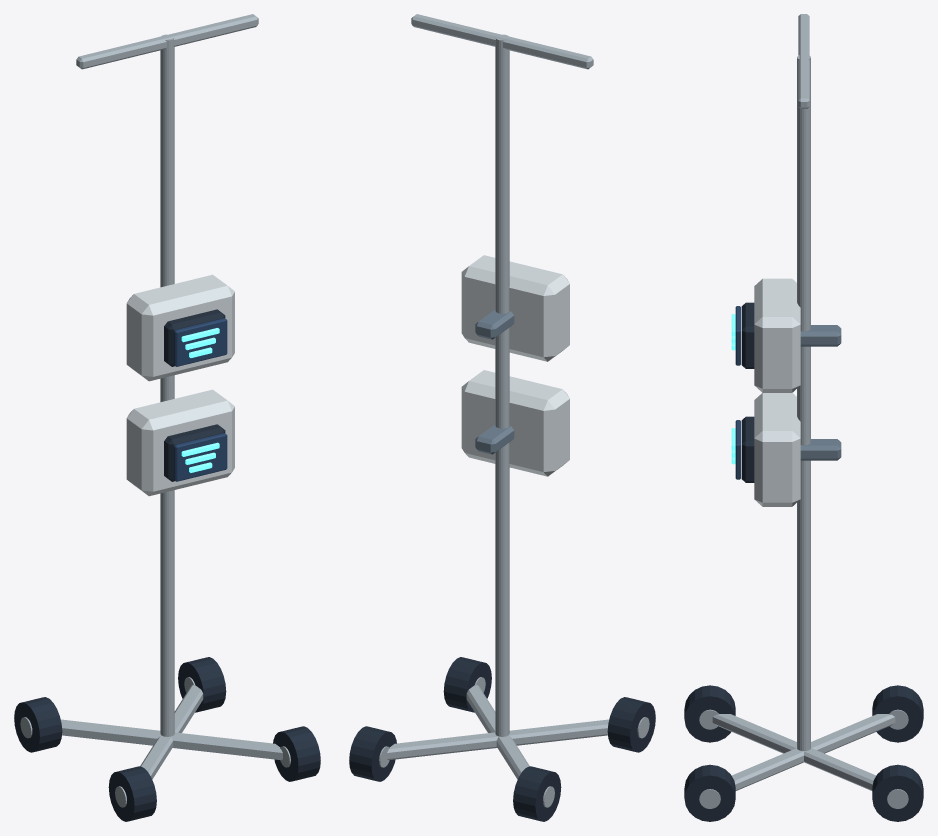
Rendered from ward_12.glb.
3 renders of one model, left to right at view 1: azimuth 30°, elevation 25°; view 2: azimuth 150°, elevation 25°; view 3: azimuth 270°, elevation 25°, orthographic.
Parts seen in each view (by area): view 1: InfusionPump (×2), IVPole, Wheel (×4), CasterBrace (×2), Screen (×2), HookBar, MonitorFrame (×2); view 2: InfusionPump (×2), IVPole, Wheel (×4), CasterBrace (×2), HookBar, PumpClamp (×2); view 3: InfusionPump (×2), IVPole, Wheel (×4), CasterBrace (×2), MonitorFrame (×2), PumpClamp (×2), HookBar.
Boxes of the visible parts, x1,y1,x2,y2 form: InfusionPump (×2): [126, 274, 234, 496]; IVPole: [160, 34, 174, 736]; Wheel (×4): [14, 657, 320, 821]; CasterBrace (×2): [60, 685, 282, 779]; Screen (×2): [174, 318, 227, 481]; HookBar: [76, 14, 258, 69]; MonitorFrame (×2): [164, 309, 225, 481]; InfusionPump (×2): [461, 255, 569, 476]; IVPole: [495, 34, 509, 736]; Wheel (×4): [349, 657, 655, 821]; CasterBrace (×2): [387, 685, 609, 779]; HookBar: [411, 14, 593, 69]; PumpClamp (×2): [475, 309, 514, 454]; InfusionPump (×2): [754, 278, 800, 506]; IVPole: [797, 55, 810, 750]; Wheel (×4): [684, 685, 923, 821]; CasterBrace (×2): [712, 714, 895, 790]; MonitorFrame (×2): [741, 302, 754, 482]; PumpClamp (×2): [800, 325, 841, 460]; HookBar: [798, 14, 809, 108].
Bounding box in the file's own units: 0.4642 × 1.71 × 0.5132.
